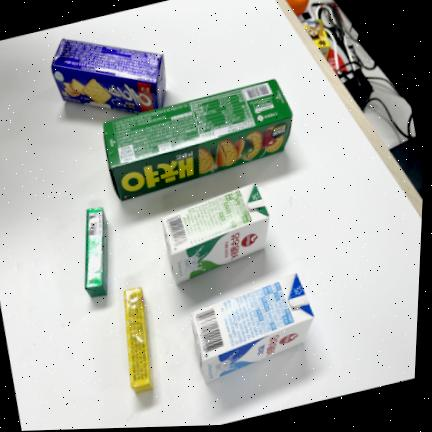cracker_ace: (52, 39, 165, 112)
cracker_vege: (104, 79, 293, 201)
gum_green: (85, 208, 107, 297)
gum_yellow: (124, 287, 153, 393)
milk_blue: (191, 274, 314, 382)
milk_green: (162, 183, 269, 283)
